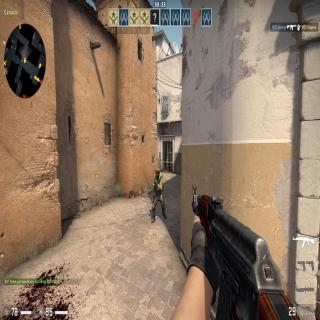CT-Body: (150, 167, 168, 225)
CT-Head: (155, 168, 161, 178)
